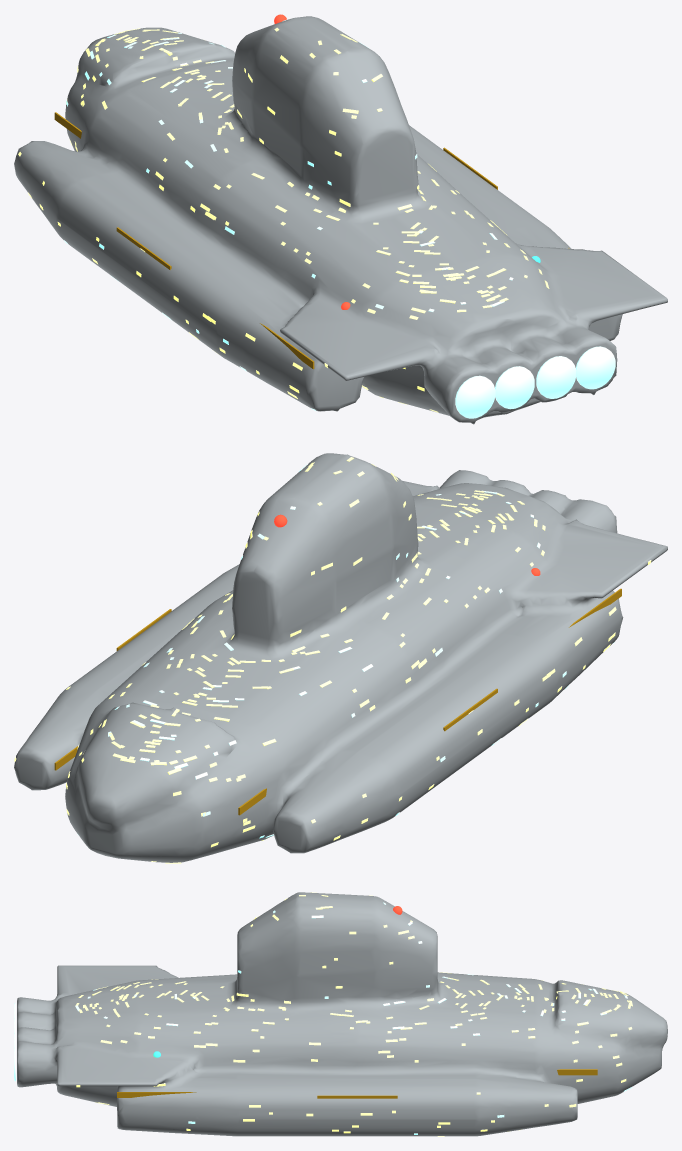
File: warship.glb
3 renders of one model, top to bottom at view 1: azimuth 30°, elevation 25°; view 2: azimuth 150°, elevation 25°; view 3: azimuth 270°, elevation 25°, orthographic. The views are drawn at different scales.
Parts seen in each view (by area): view 1: Hull.001, WindowsAmber, EngineGlow9, EngineGlow-26, EngineGlow-9, EngineGlow26, WindowsCyan; view 2: Hull.001, WindowsAmber, WindowsCyan; view 3: Hull.001, WindowsAmber, WindowsCyan.
Boxes of the visible parts, <box> form: Hull.001: <box>14,16,667,424</box>; WindowsAmber: <box>18,27,549,412</box>; EngineGlow9: <box>536,356,576,398</box>; EngineGlow-26: <box>455,375,495,418</box>; EngineGlow-9: <box>495,366,534,409</box>; EngineGlow26: <box>576,346,615,389</box>; WindowsCyan: <box>64,19,513,411</box>; Hull.001: <box>14,453,667,862</box>; WindowsAmber: <box>14,457,651,863</box>; WindowsCyan: <box>77,464,615,838</box>; Hull.001: <box>17,892,667,1136</box>; WindowsAmber: <box>75,892,632,1136</box>; WindowsCyan: <box>75,902,632,1134</box>.
Size of the model in its own units: 148 by 110 by 327.
